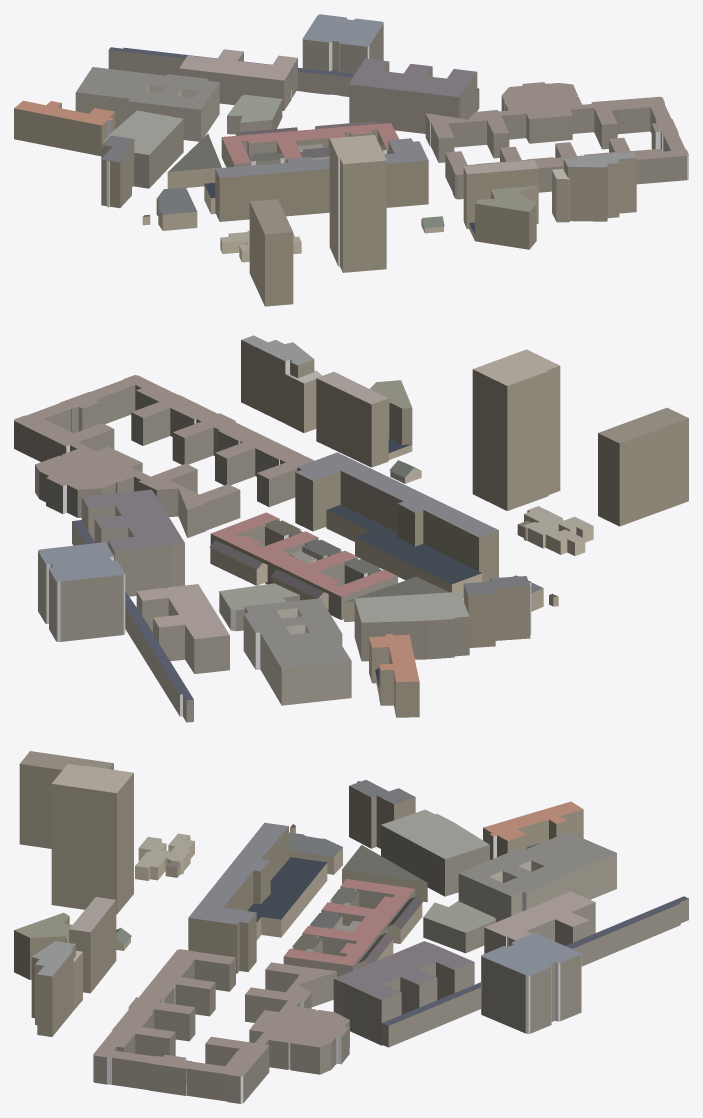
The picture shows the model from 3 angles, top to bottom: view 1: azimuth 30°, elevation 25°; view 2: azimuth 150°, elevation 25°; view 3: azimuth 270°, elevation 25°; orthographic projection. The views are drawn at different scales.
Visible parts, largest first — view 1: tuile; view 2: tuile; view 3: tuile.
Boxes of the visible parts, bbox=[...] form: tuile: bbox=[14, 14, 688, 306]; tuile: bbox=[14, 335, 688, 722]; tuile: bbox=[14, 751, 688, 1103].
Size of the model in its own units: 311 by 71.68 by 323.
